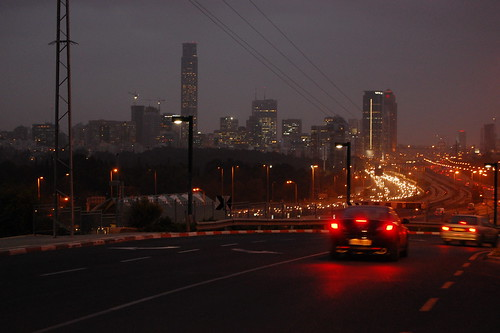building: (359, 88, 398, 152), (178, 40, 201, 139), (80, 119, 139, 152), (128, 103, 167, 151), (251, 97, 281, 156), (311, 112, 347, 156), (214, 112, 246, 151), (280, 119, 302, 151)
car: (328, 198, 414, 267), (442, 210, 498, 250)
road: (1, 234, 497, 333)
sky: (26, 1, 500, 118)
